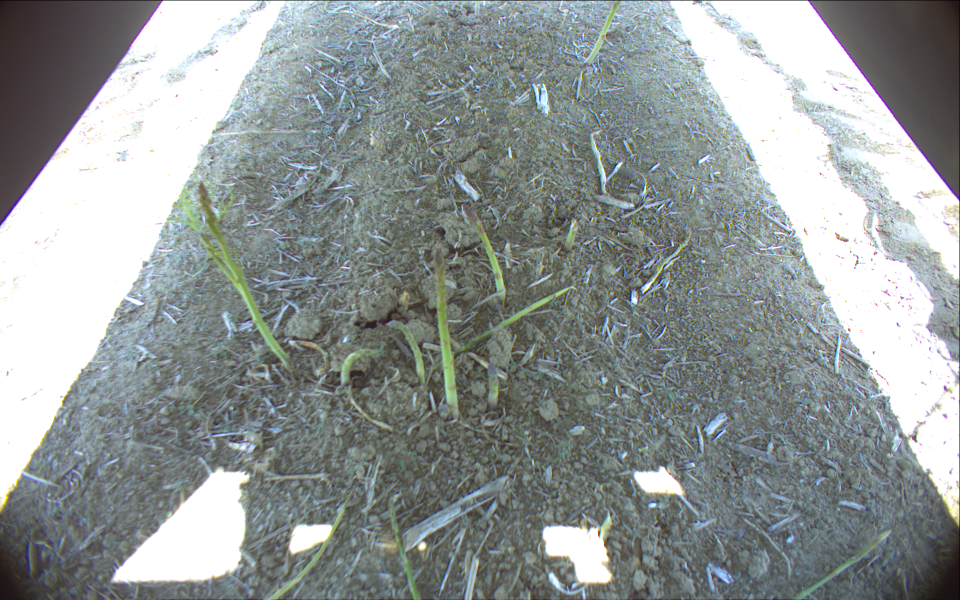aspa: (198, 180, 296, 375), (430, 287, 575, 371), (262, 484, 356, 600), (790, 529, 892, 600), (457, 198, 510, 305), (388, 490, 423, 600), (641, 228, 694, 295), (199, 233, 241, 291), (584, 1, 622, 65), (388, 319, 423, 386), (323, 1, 400, 30), (341, 348, 384, 390), (589, 129, 608, 195), (485, 361, 503, 411), (563, 214, 579, 255)
